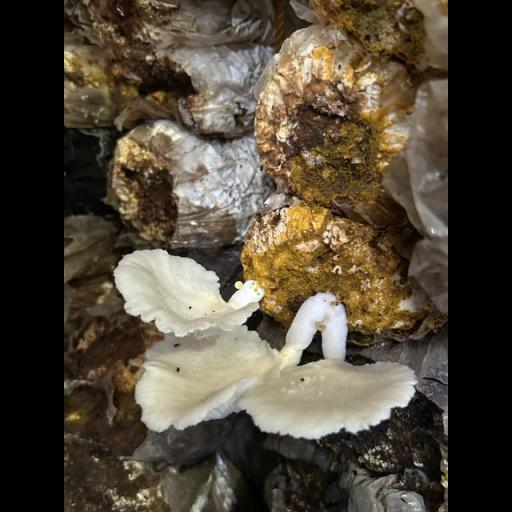White Oyster Mushroom: (104, 239, 418, 448)
